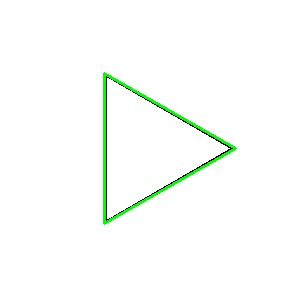line_segment: (103, 73, 236, 224)
